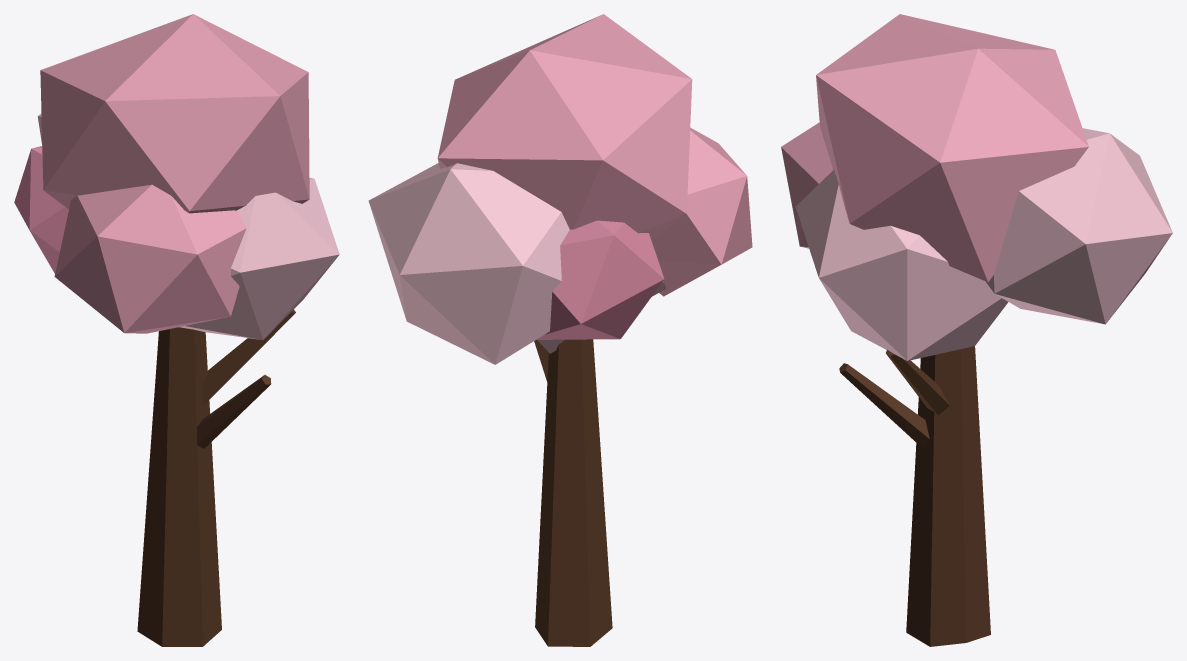
The model's file is tree_4.glb.
3 renders of one model, left to right at view 1: azimuth 30°, elevation 25°; view 2: azimuth 150°, elevation 25°; view 3: azimuth 270°, elevation 25°, orthographic. The views are drawn at different scales.
Parts seen in each view (by area): view 1: tree_4; view 2: tree_4; view 3: tree_4.
Part boxes in pixels (x1,y1,x2,y2): tree_4: [14, 14, 339, 646]; tree_4: [368, 14, 752, 646]; tree_4: [781, 14, 1172, 646].
Bounding box in the file's own units: 1.32 × 2.72 × 1.62.
